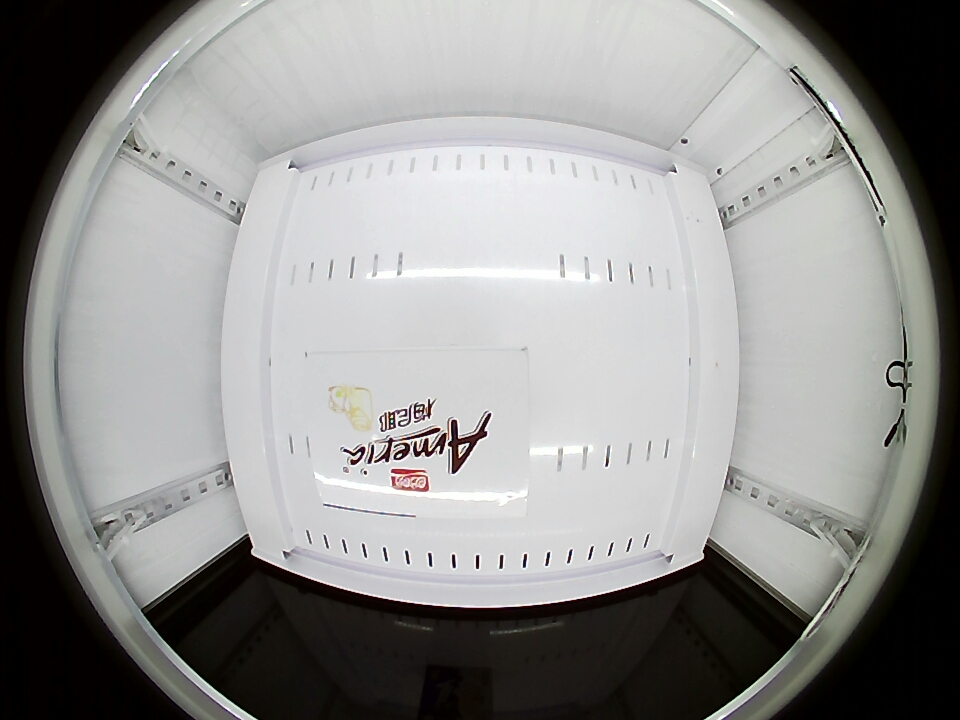meiniye: (310, 353, 527, 517)
